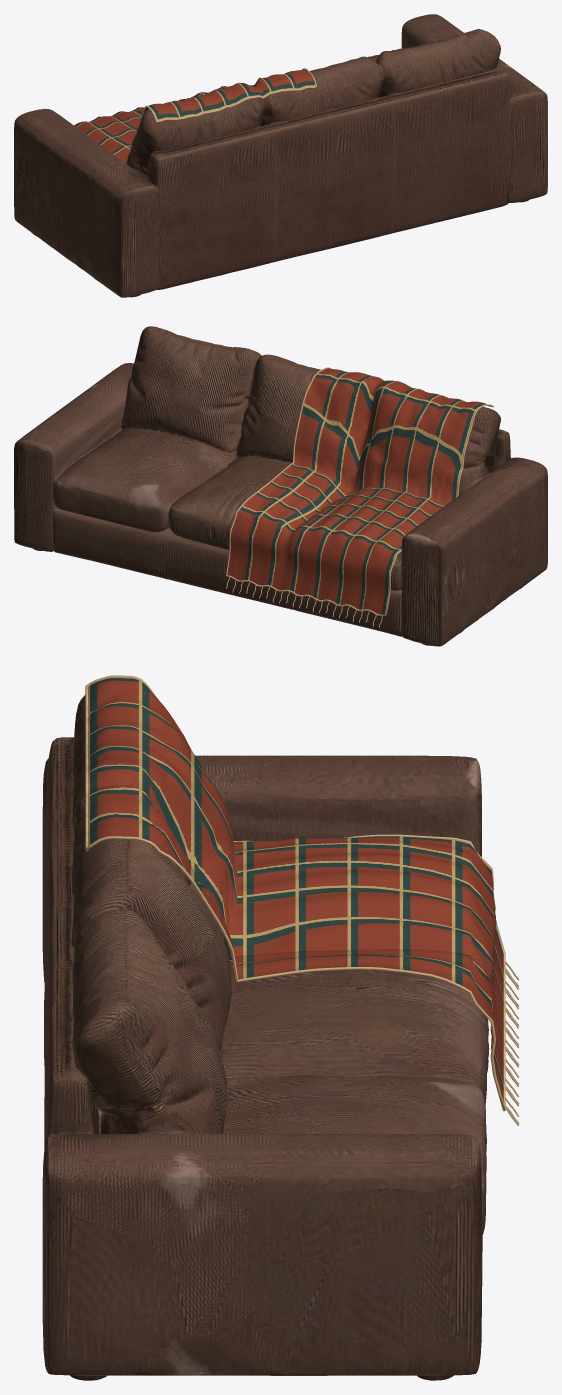
File: den-sofa.glb
3 renders of one model, top to bottom at view 1: azimuth 30°, elevation 25°; view 2: azimuth 150°, elevation 25°; view 3: azimuth 270°, elevation 25°, orthographic. The views are drawn at different scales.
Visible parts, largest first — view 1: DenCorduroy, DenAfghan, DenAfghanHem; view 2: DenCorduroy, DenAfghan, DenAfghanHem, DenAfghanFringe; view 3: DenCorduroy, DenAfghan, DenAfghanHem, DenAfghanFringe.
Part boxes in pixels (x1,y1,x2,y2): DenCorduroy: [14, 14, 547, 297]; DenAfghan: [74, 69, 315, 162]; DenAfghanHem: [128, 68, 316, 154]; DenCorduroy: [14, 326, 547, 646]; DenAfghan: [227, 368, 486, 614]; DenAfghanHem: [226, 367, 493, 615]; DenAfghanFringe: [226, 577, 382, 627]; DenCorduroy: [42, 695, 489, 1380]; DenAfghan: [87, 677, 503, 1101]; DenAfghanHem: [85, 675, 505, 1111]; DenAfghanFringe: [505, 961, 519, 1125].
Size of the model in its own units: 2.05 by 0.7824 by 0.9827.
Materials: 3 (2 with a texture image).
